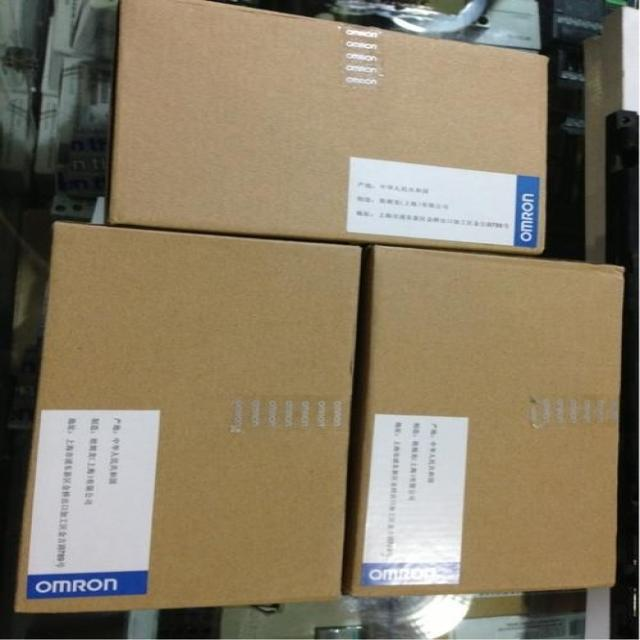box: (16, 222, 363, 614), (105, 0, 547, 254), (345, 244, 625, 595)
